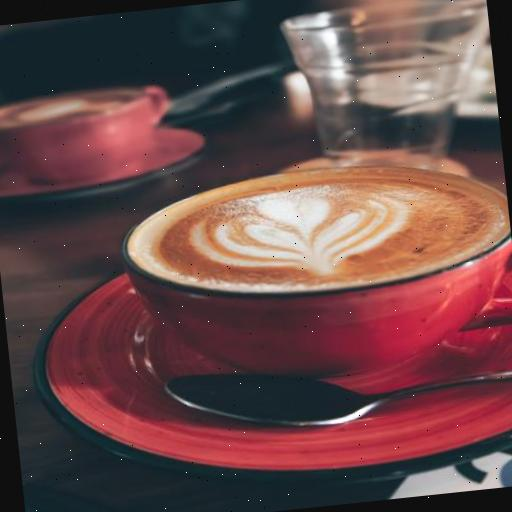cup: (116, 148, 512, 397), (0, 82, 174, 191)
